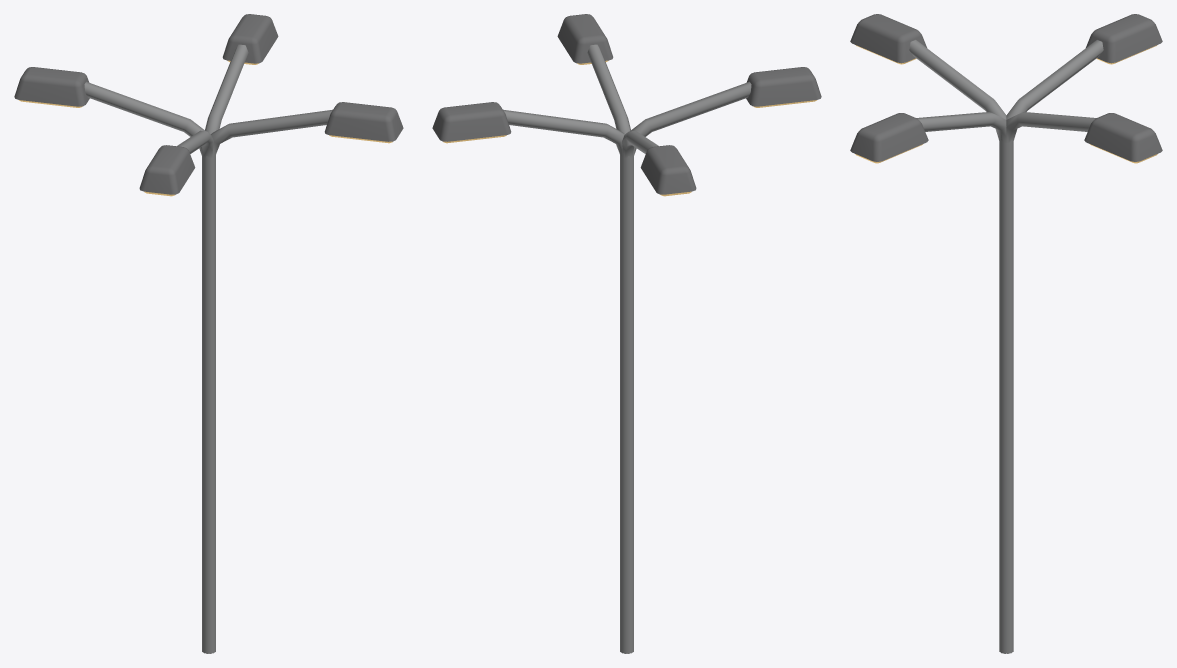
File: Lamp_02.glb
3 views of the same model, side by side, from view 1: azimuth 30°, elevation 25°; view 2: azimuth 150°, elevation 25°; view 3: azimuth 270°, elevation 25° (orthographic). The views are drawn at different scales.
Parts seen in each view (by area): view 1: Lamp_02; view 2: Lamp_02; view 3: Lamp_02.
Part boxes in pixels (box(x1,y1,x2,y2)): Lamp_02: box(14, 14, 403, 653); Lamp_02: box(432, 14, 821, 653); Lamp_02: box(850, 14, 1162, 653).
Size of the model in its own units: 4.77 by 9.7 by 4.77.
Materials: 2 (2 with a texture image).
